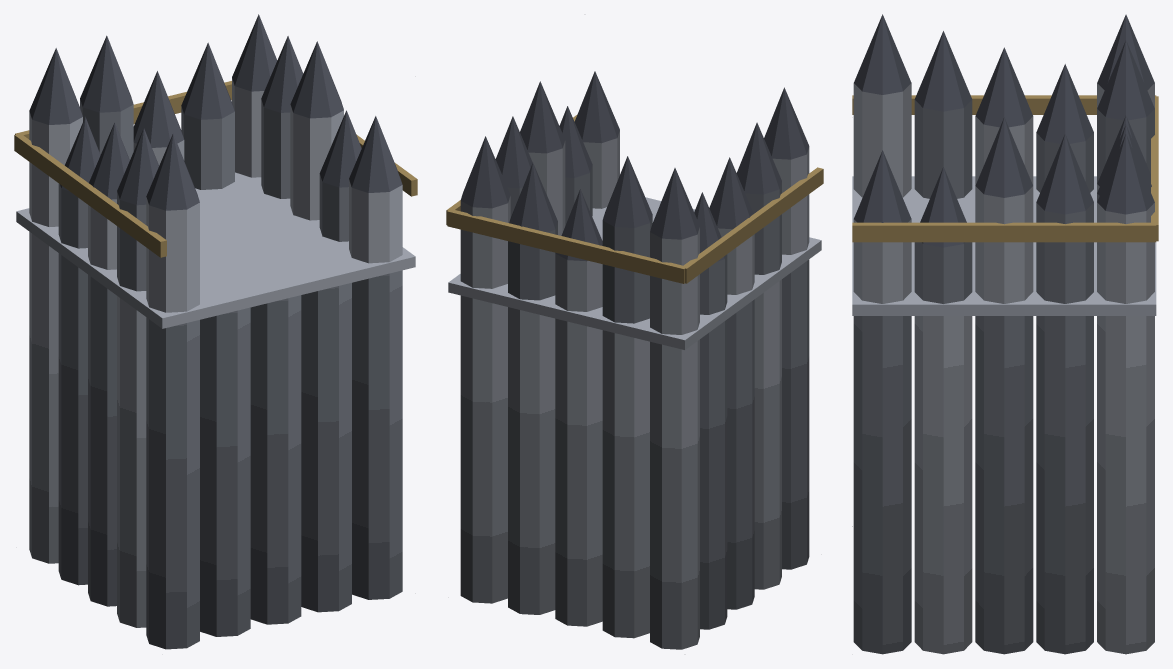
The model's file is perimeter_wall_metal_f4.glb.
The picture shows the model from 3 angles, left to right: view 1: azimuth 30°, elevation 25°; view 2: azimuth 150°, elevation 25°; view 3: azimuth 270°, elevation 25°; orthographic projection. The views are drawn at different scales.
Bounding box in the file's own units: 2.03 × 3.9 × 2.01.
Materials: 1 (1 with a texture image).
